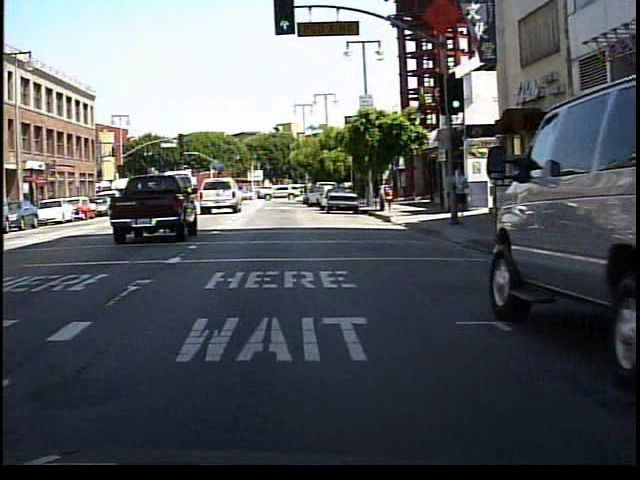person: (449, 161, 472, 224)
